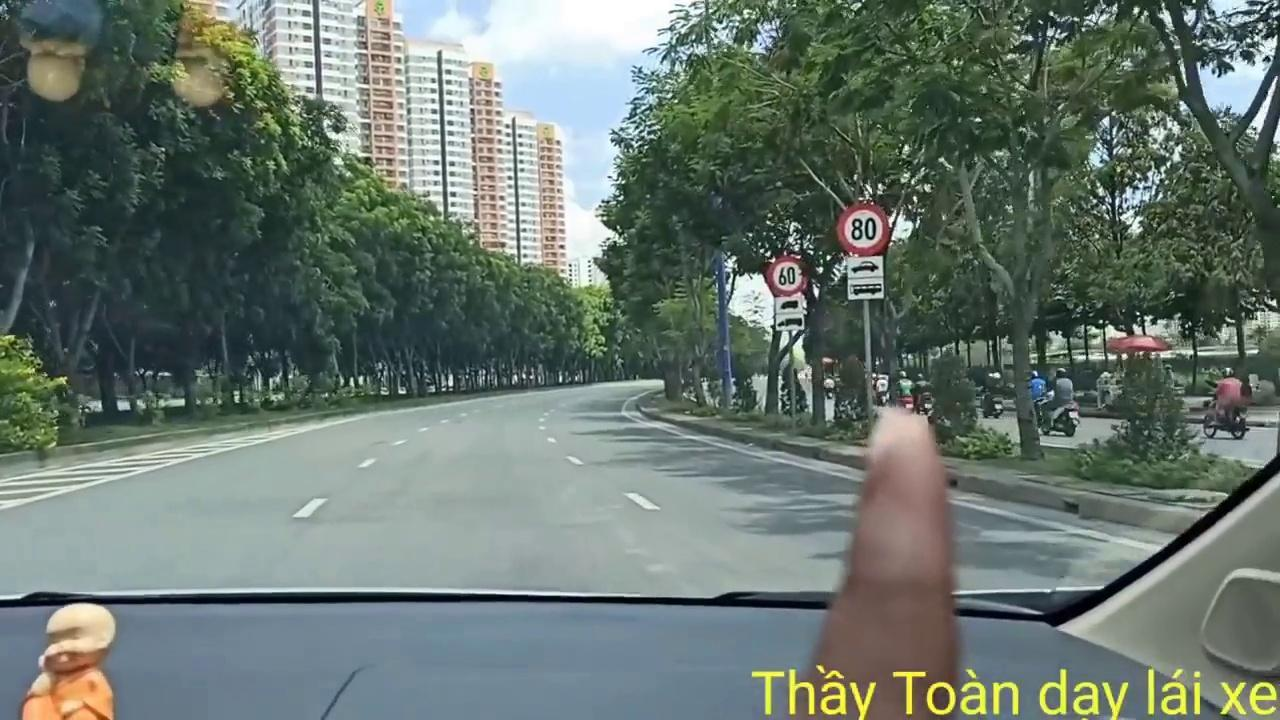Biển phụ: (846, 254, 886, 301), (774, 296, 807, 332)
GIơi hạn tốc độ 60Km/h: (764, 255, 810, 298)
Giới hạn tốc độ 80Km/h: (835, 200, 893, 257)
